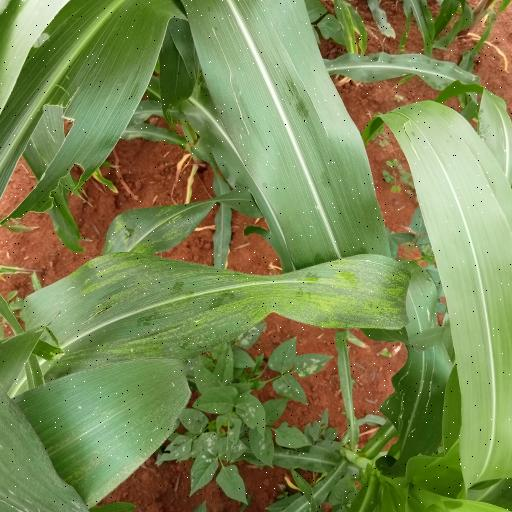Corn_Brown_Spots: (27, 248, 443, 359)
